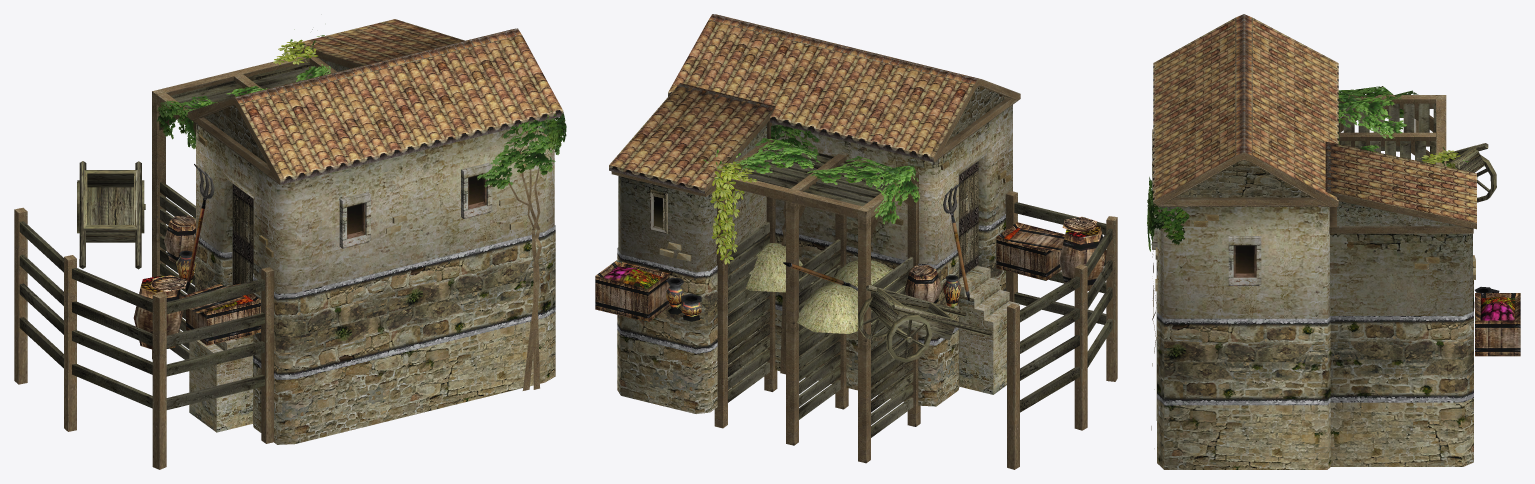
The model's file is farmstead.glb.
The picture shows the model from 3 angles, left to right: view 1: azimuth 30°, elevation 25°; view 2: azimuth 150°, elevation 25°; view 3: azimuth 270°, elevation 25°; orthographic projection. The views are drawn at different scales.
Visible parts, largest first — view 1: farmstead_part0, farmstead_part2, farmstead_part3; view 2: farmstead_part0, farmstead_part2, farmstead_part3, farmstead_part1; view 3: farmstead_part0, farmstead_part2, farmstead_part3.
Part boxes in pixels (box(x1,y1,x2,y2)): farmstead_part0: box(14, 19, 563, 469); farmstead_part2: box(133, 162, 492, 349); farmstead_part3: box(157, 29, 566, 189); farmstead_part0: box(609, 14, 1117, 469); farmstead_part2: box(595, 161, 1106, 322); farmstead_part3: box(703, 125, 919, 264); farmstead_part1: box(745, 243, 905, 333); farmstead_part0: box(1151, 14, 1496, 469); farmstead_part2: box(1152, 129, 1520, 356); farmstead_part3: box(1147, 86, 1484, 251).
Bounding box in the file's own units: 3.2 × 2.42 × 2.41.
4 materials, 4 textured.
